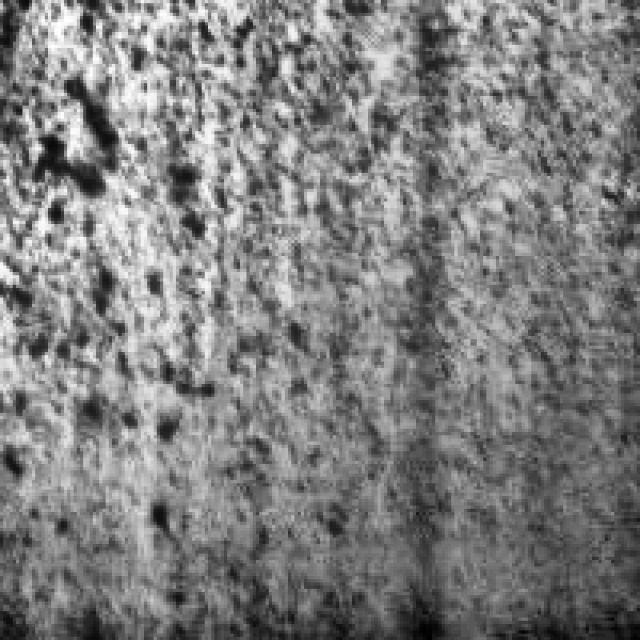Rolled_in_Scale: (9, 0, 608, 621)
